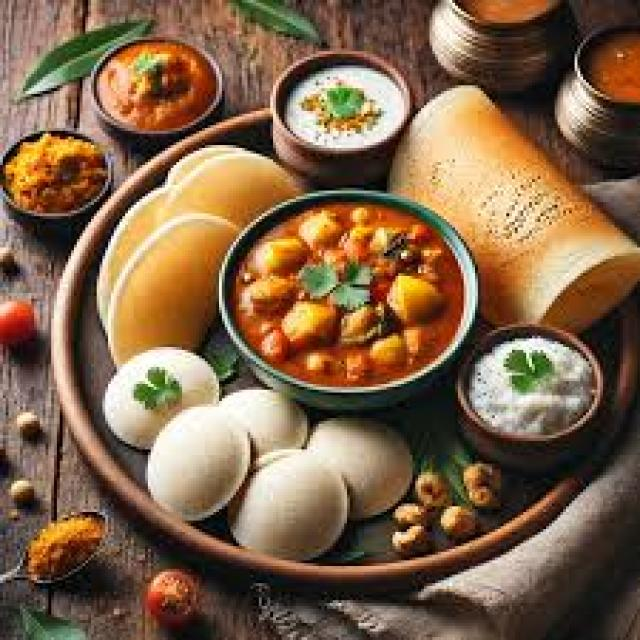DOSA: (391, 81, 637, 327)
IDLI: (240, 443, 352, 559), (102, 344, 222, 450), (141, 402, 251, 517), (310, 414, 418, 520)
